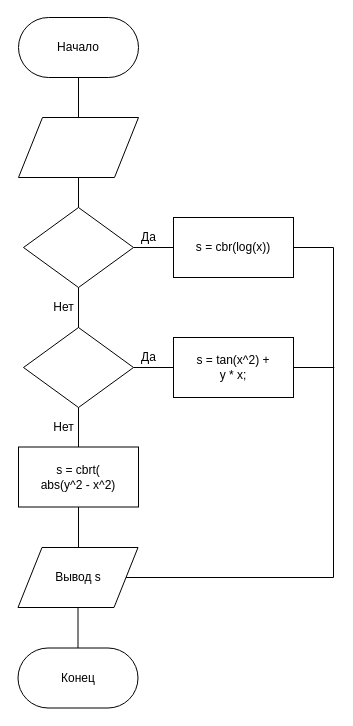
Image size: 353x726. Some labels were removed from this diagram. The shapes that lost their labels are listed below. From the top down, each one's centre as x and y in pixels, then its label:
At [78,147]: "Ввод x, y".
At [78,247]: "x^3 > 0".
At [78,367]: "x^3 < 0".
